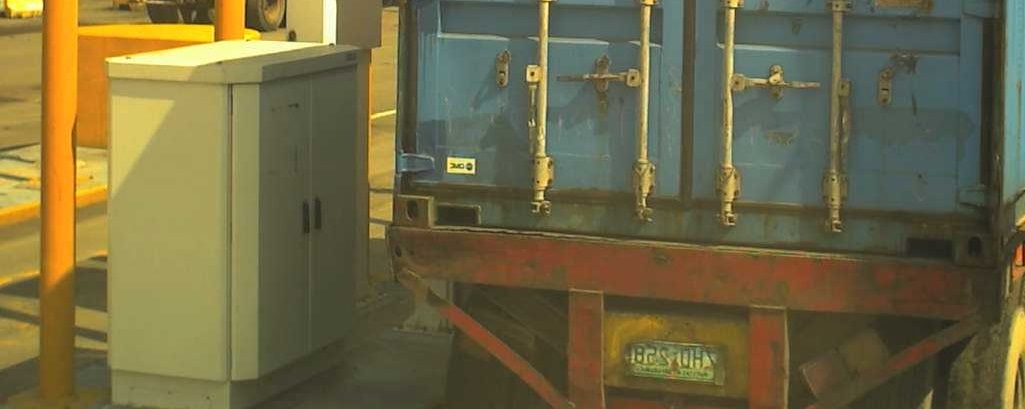container_no_door: (392, 1, 1003, 274)
